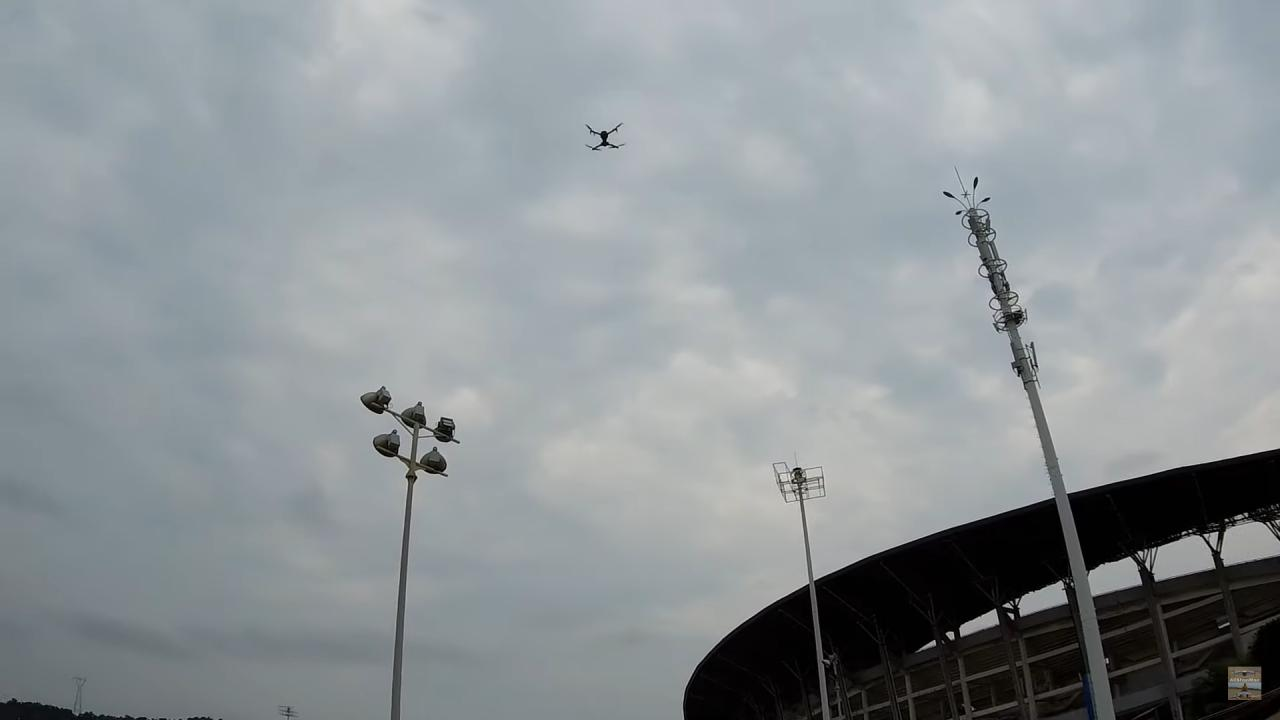Drone: (576, 114, 634, 161)
